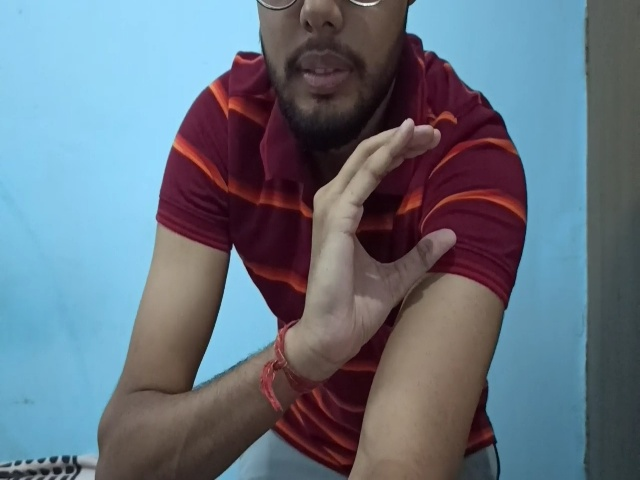C: (292, 118, 457, 377)
